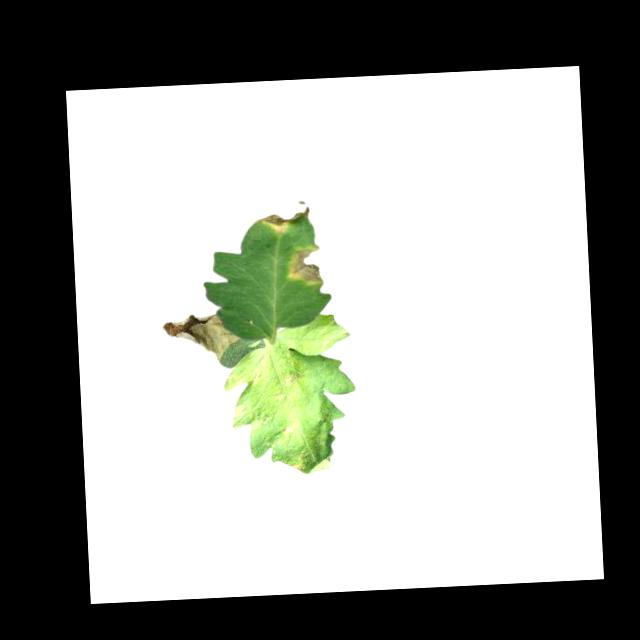Late_blight: (159, 308, 241, 365), (284, 243, 325, 289), (259, 200, 309, 234), (281, 366, 307, 388), (289, 449, 311, 473), (279, 422, 298, 444)
